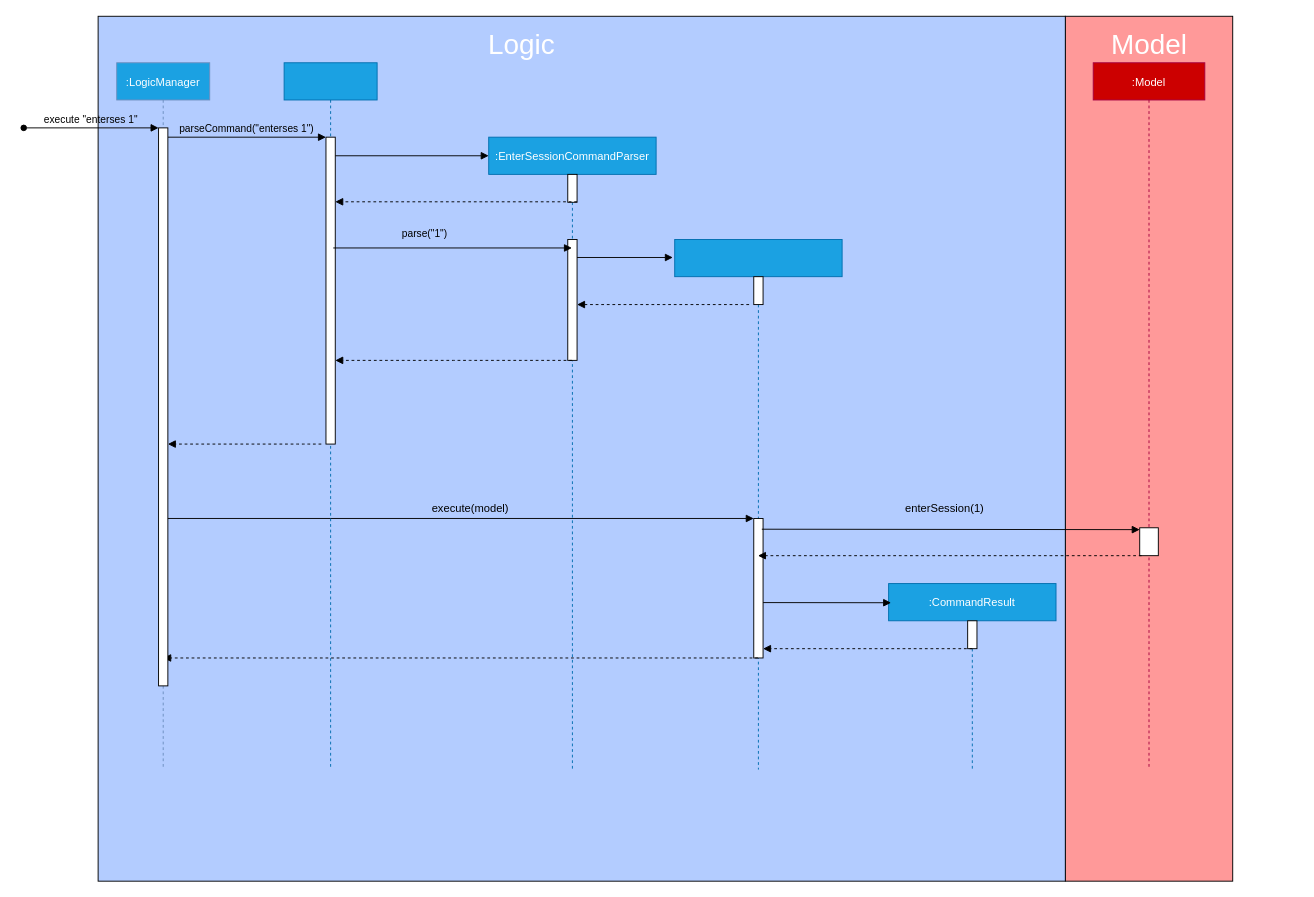
Image size: 1314x897. Some labels were removed from this diagram. Each missing label, with the centre of its shape:
":AtasParser" belongs at (330,416).
":EnterSessionCommand" belongs at (758,504).
